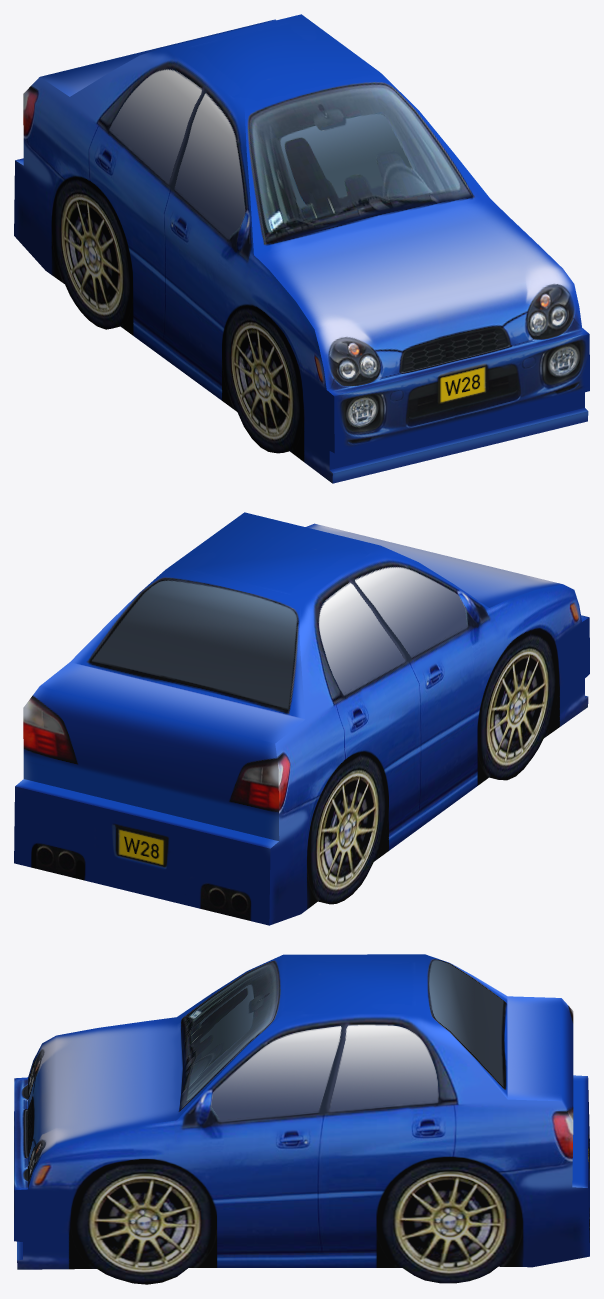
The model's file is SUBARY_1.fbx.
3 renders of one model, top to bottom at view 1: azimuth 30°, elevation 25°; view 2: azimuth 150°, elevation 25°; view 3: azimuth 270°, elevation 25°, orthographic. The views are drawn at different scales.
Visible parts, largest first — view 1: SUBARU1; view 2: SUBARU1; view 3: SUBARU1.
Part boxes in pixels (x1=…): SUBARU1: x1=14, y1=14, x2=589, y2=483; SUBARU1: x1=14, y1=512, x2=589, y2=925; SUBARU1: x1=14, y1=954, x2=589, y2=1284.
Bounding box in the file's own units: 118 × 120 × 257.
